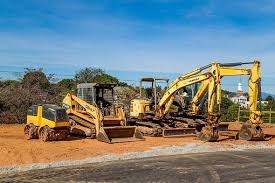bulldozer: (64, 83, 146, 144)
excavator: (181, 59, 265, 140), (129, 74, 217, 140)
